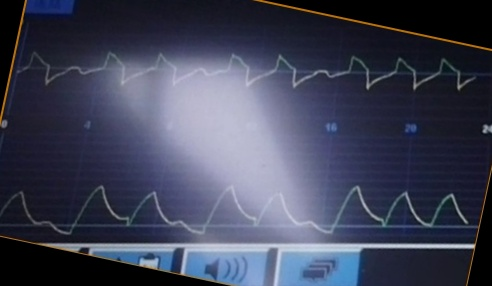Ineffective_effort Flow: (19, 44, 471, 119)
Ineffective_effort Volume: (1, 180, 467, 240)
